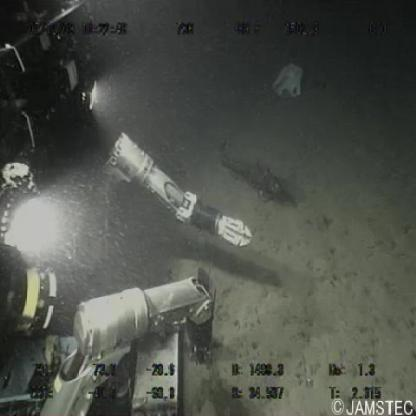Bio: (224, 151, 296, 208)
Rác: (268, 57, 307, 106)
